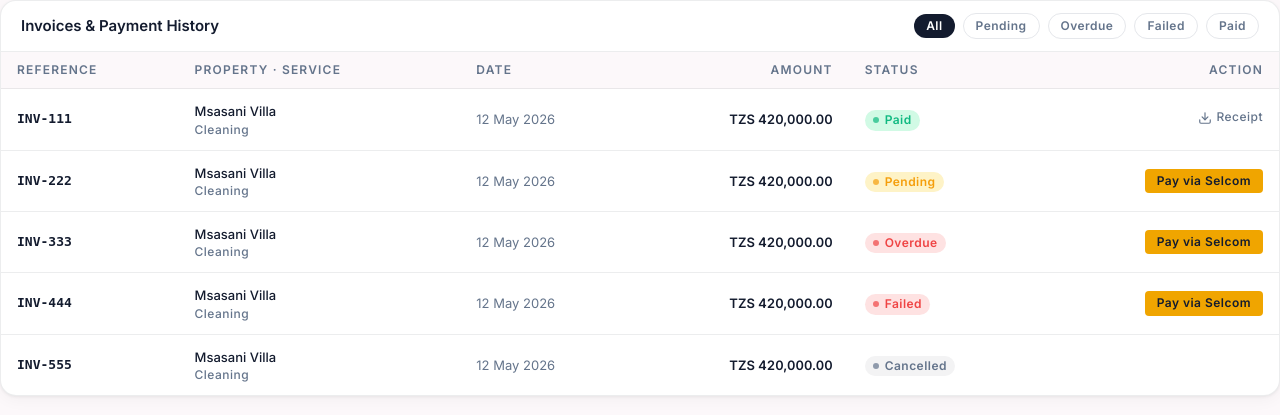
it: OwnerInvoicesClient › filters to FAILED only when Failed pill clicked
Click the button "Failed". click: (1166, 26)
box: 1134,13 -> 1198,39
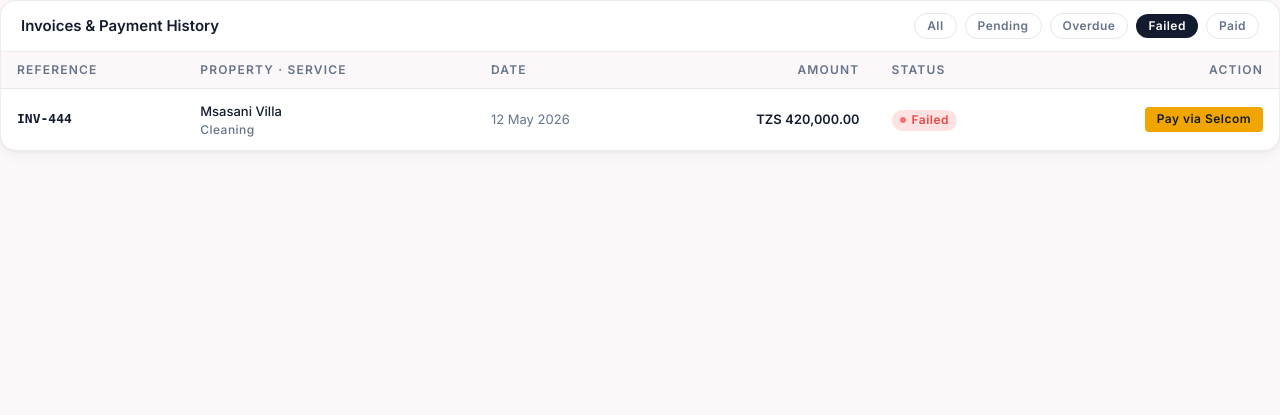
Expected: the text "INV-444" is shown, 1,89 -> 184,150
Expected: the text "INV-111" is gone
